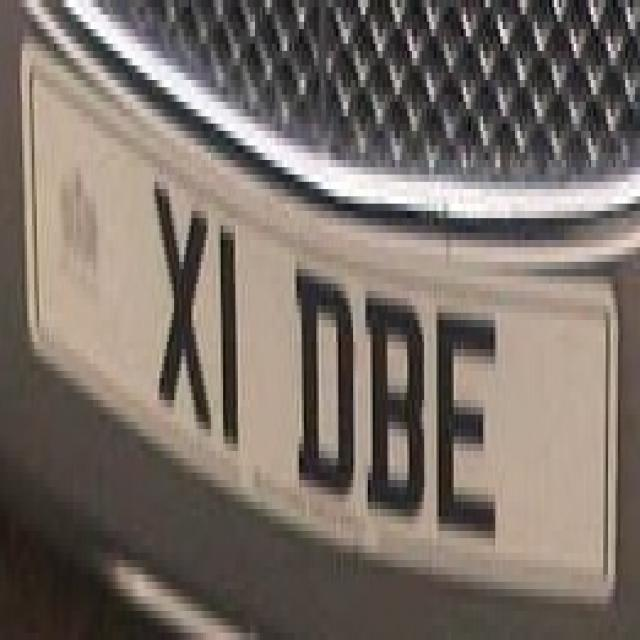licenseplate: (11, 5, 631, 636)
